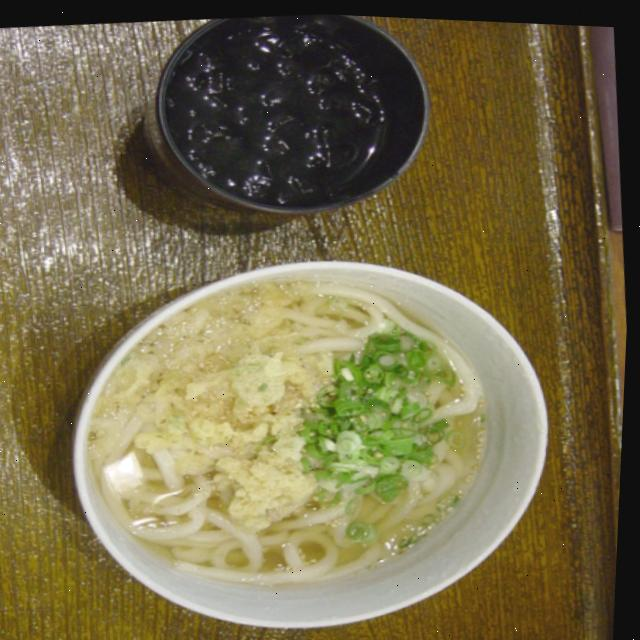面条主食: (30, 223, 555, 640)
